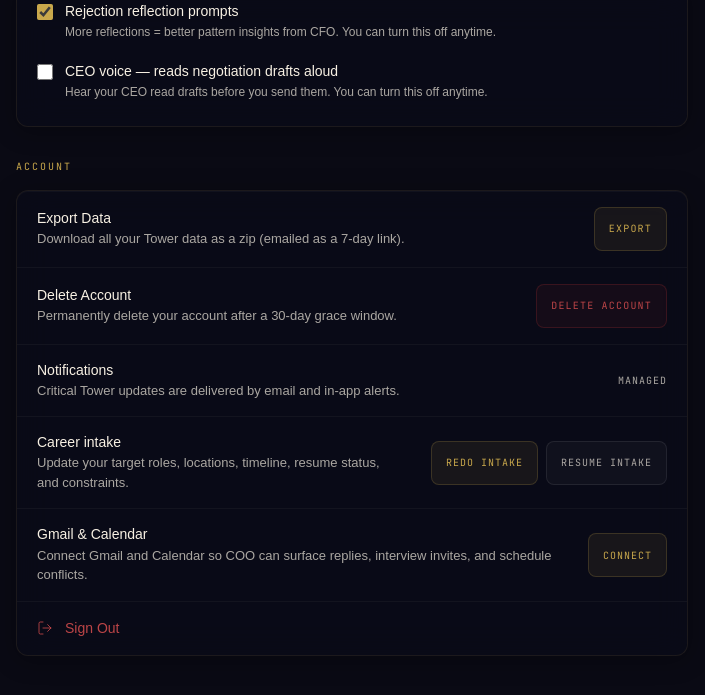
Test: SettingsClient connected services › shows an error when the Google OAuth desk is unavailable
(page scrolled)
Click the button "Connect": point(628, 555) [588, 533, 667, 577]
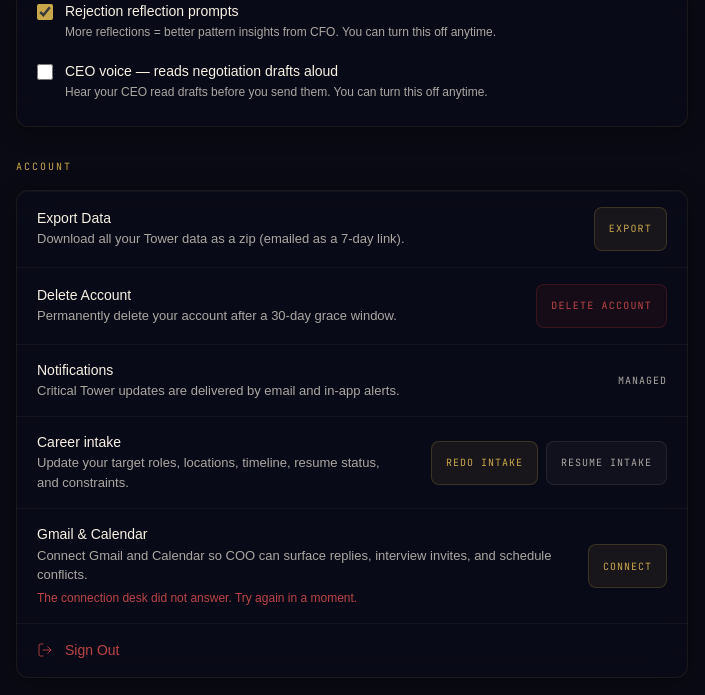
Expected: the text "The connection desk did not answer. Try again in a moment." is shown, [37, 591, 357, 605]
